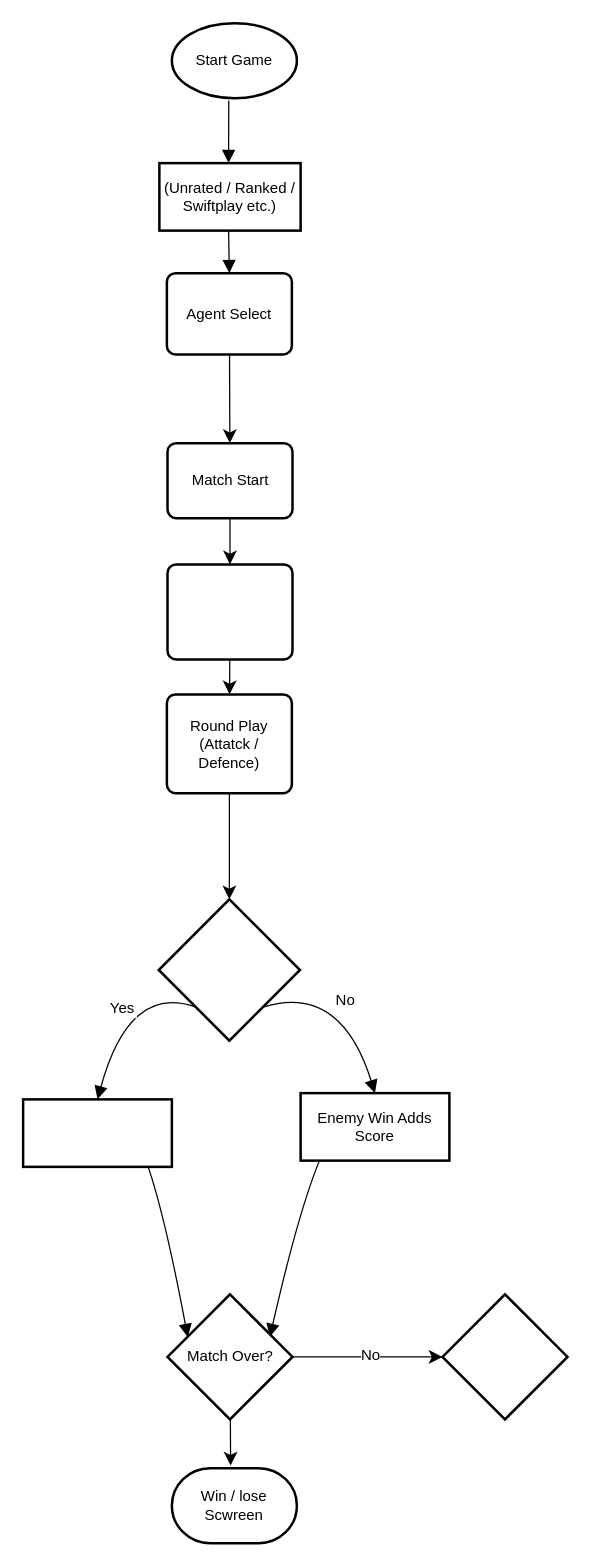
Some shapes in this 590 by 1565 pixel diagram are drawn without their labels. Here are the shapes that lost their labels. From the top down, the box of each, then its label:
(166, 562, 293, 660): Buy Phase
(157, 898, 301, 1041): Win Round?
(21, 1098, 172, 1168): Add Win to Score
(441, 1292, 568, 1420): Next round (goes back to Buy Phase)
